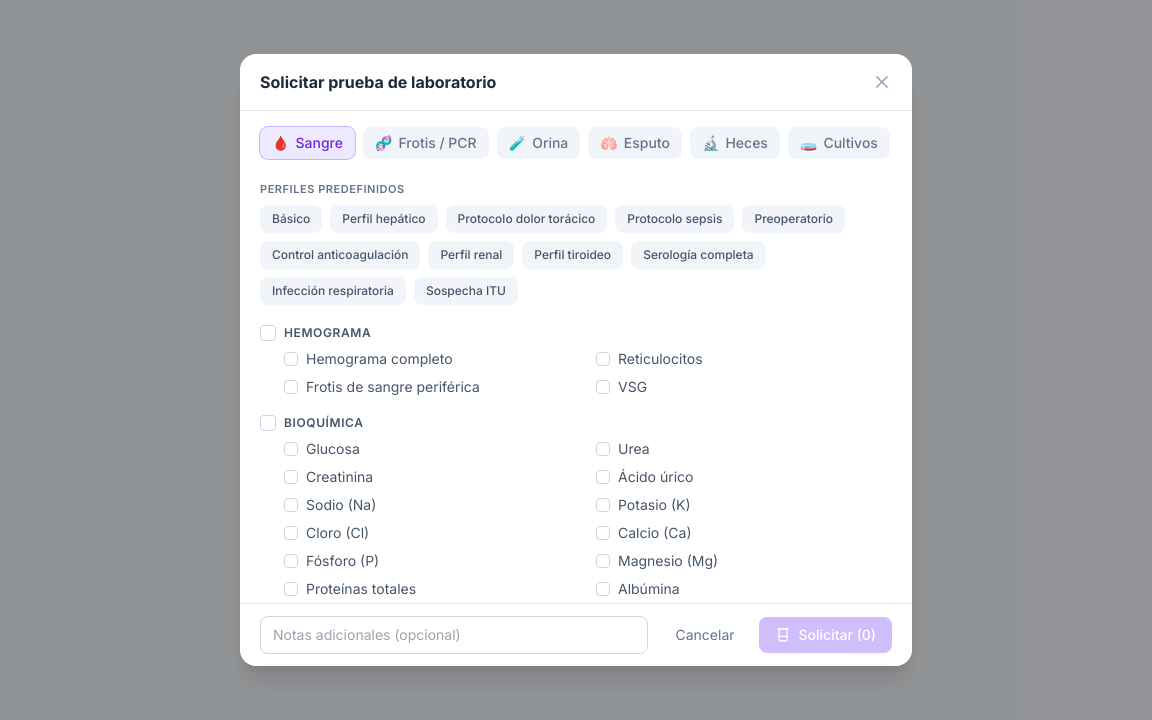
it: NewLabTestModal › seleccionar parámetro individual actualiza el contador
Click the text "Hemograma completo".
click(379, 359)  # box [306,349,453,369]
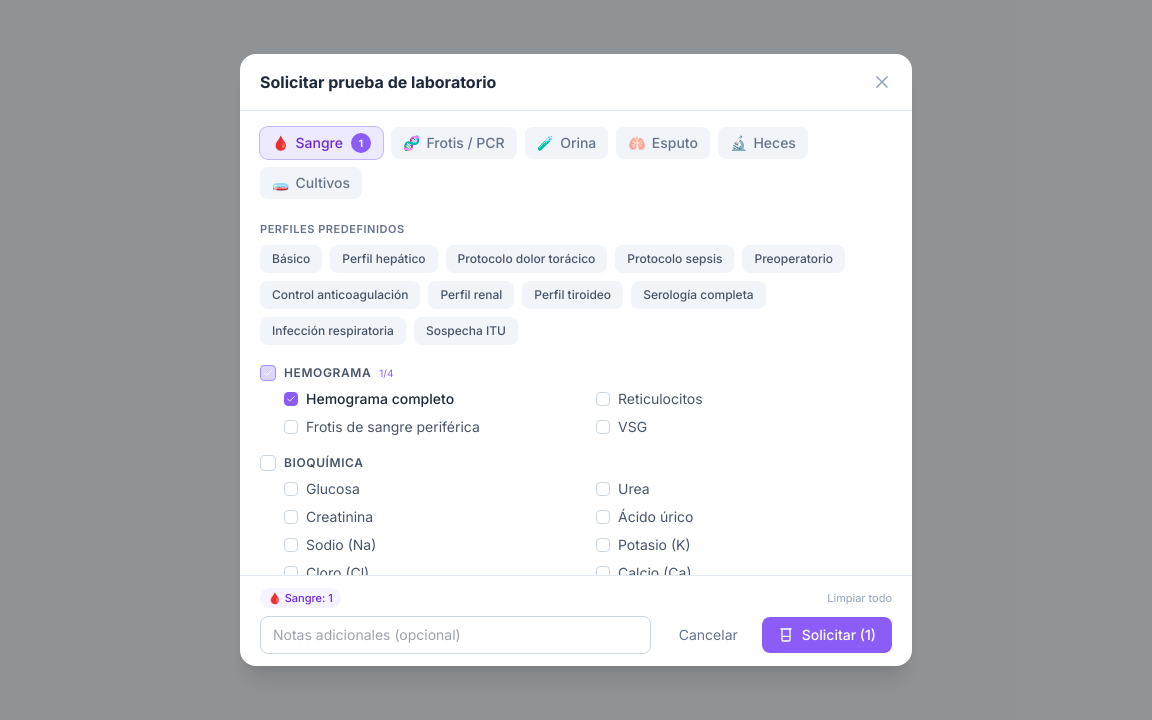
Expected: the button "Solicitar (1)" is shown, [762,617,892,653]
